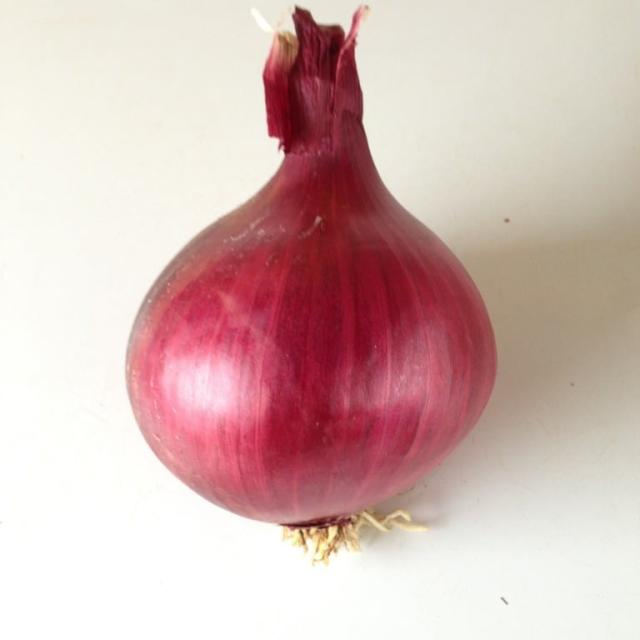onion: (121, 160, 510, 532)
